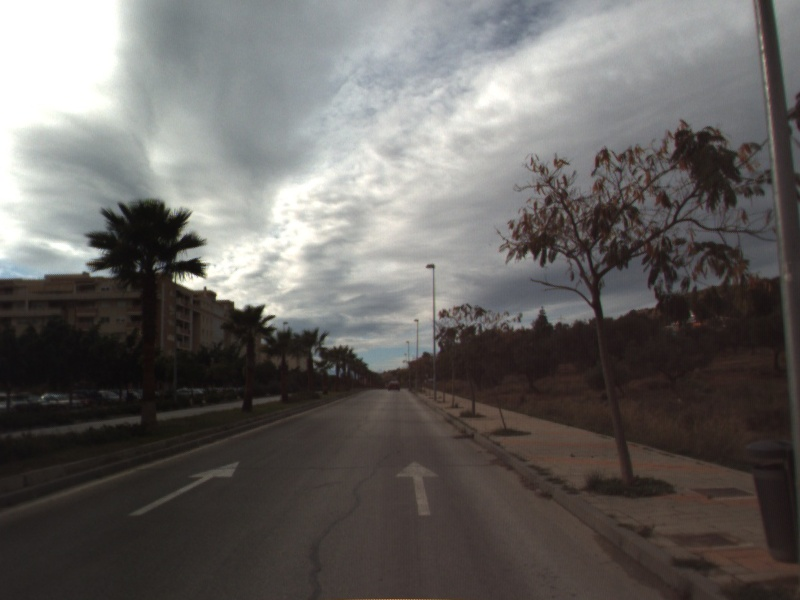STRAIGHT: (125, 459, 242, 518), (393, 459, 442, 518)
